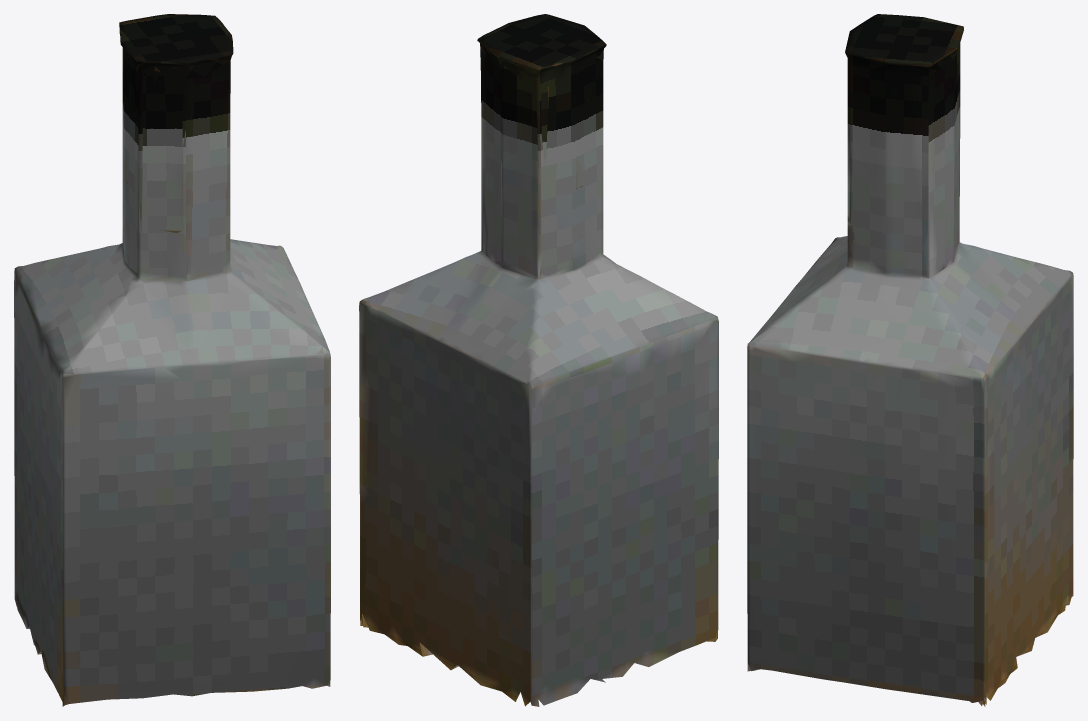
File: tavern_bottle_03_psx.glb
3 renders of one model, left to right at view 1: azimuth 30°, elevation 25°; view 2: azimuth 150°, elevation 25°; view 3: azimuth 270°, elevation 25°, orthographic. The views are drawn at different scales.
Visible parts, largest first — view 1: tavern_bottle_03_psx; view 2: tavern_bottle_03_psx; view 3: tavern_bottle_03_psx.
Part boxes in pixels (x1,y1,x2,y2): tavern_bottle_03_psx: (14,14,330,706); tavern_bottle_03_psx: (359,14,718,706); tavern_bottle_03_psx: (747,14,1073,706).
Bounding box in the file's own units: 0.128 × 0.2525 × 0.1249.
1 material, 1 textured.
